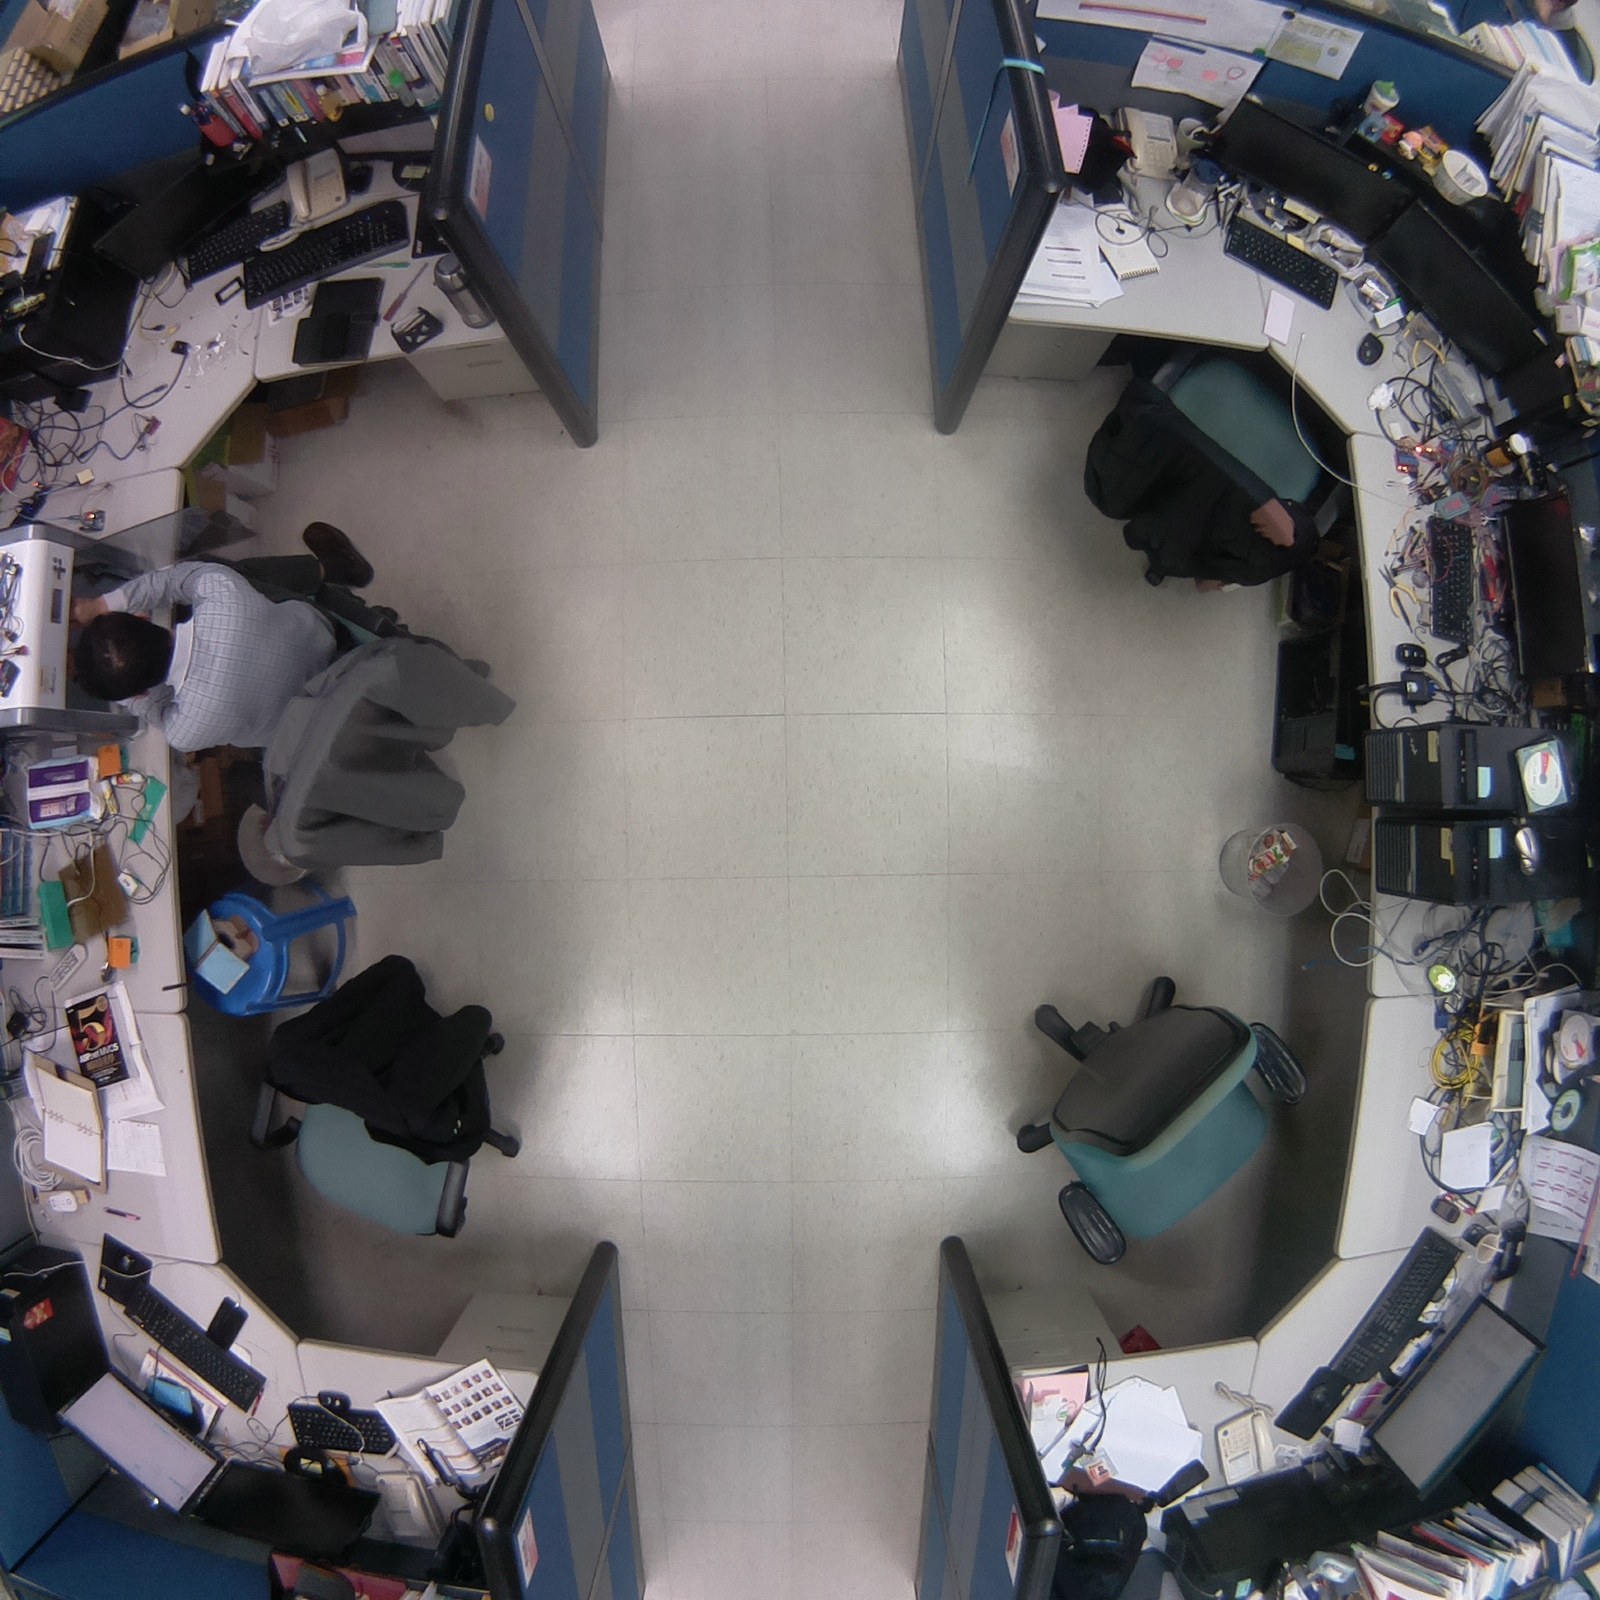chair: (970, 950, 1324, 1270), (227, 945, 535, 1252), (1063, 327, 1347, 609)
head: (68, 610, 176, 706)
sitting: (68, 499, 527, 901)
